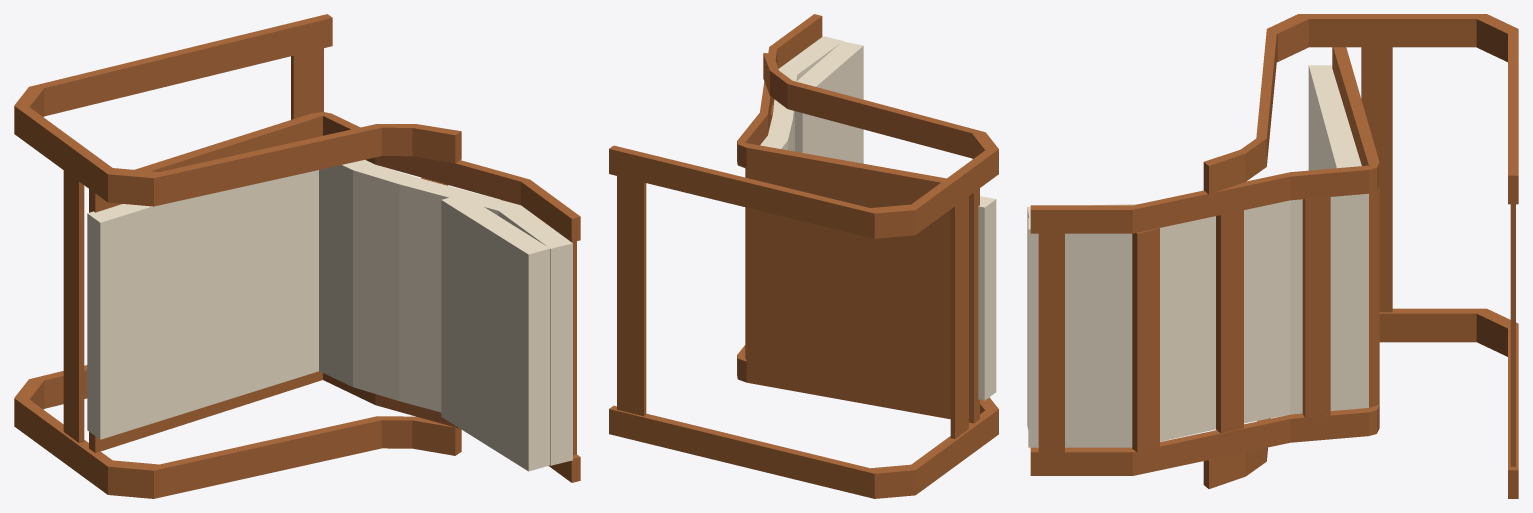
The model's file is armchair2.fbx.
3 views of the same model, side by side, from view 1: azimuth 30°, elevation 25°; view 2: azimuth 150°, elevation 25°; view 3: azimuth 270°, elevation 25° (orthographic). The views are drawn at different scales.
Visible parts, largest first — view 1: Couche:O34, Couche:O35, Couche:O32, Couche:O31, Couche:OB6, Couche:OB2, Couche:O10, Couche:O33, Couche:O30, Couche:O24, Couche:OBJ, Couche:OB4 (+14 smaller); view 2: Couche:O24, Couche:OB6, Couche:O14, Couche:OB7, Couche:OB2, Couche:O35, Couche:OBJ, Couche:O34, Couche:OB4, Couche:O12, Couche:O19, Couche:OB5 (+6 smaller); view 3: Couche:O30, Couche:O31, Couche:O33, Couche:O32, Couche:O18, Couche:O16, Couche:O17, Couche:O15, Couche:OB4, Couche:OBJ, Couche:O24, Couche:O34 (+20 smaller).
Boxes of the visible parts, x1,y1,x2,y2 form: Couche:O34: [87, 170, 318, 439]; Couche:O35: [441, 194, 549, 471]; Couche:O32: [353, 164, 420, 400]; Couche:O31: [399, 178, 520, 412]; Couche:OB6: [29, 14, 332, 116]; Couche:OB2: [154, 124, 381, 206]; Couche:O10: [154, 416, 381, 498]; Couche:O33: [319, 160, 374, 386]; Couche:O30: [498, 205, 572, 465]; Couche:O24: [89, 113, 322, 452]; Couche:OBJ: [63, 170, 84, 442]; Couche:OB4: [14, 105, 112, 202]; Couche:O24: [745, 143, 979, 423]; Couche:OB6: [609, 145, 874, 238]; Couche:O14: [609, 405, 874, 498]; Couche:OB7: [617, 176, 646, 416]; Couche:OB2: [787, 80, 984, 158]; Couche:O35: [795, 41, 863, 163]; Couche:OBJ: [950, 196, 968, 438]; Couche:O34: [978, 196, 996, 400]; Couche:OB4: [911, 149, 998, 234]; Couche:O12: [911, 409, 998, 494]; Couche:O19: [769, 14, 822, 68]; Couche:OB5: [870, 204, 915, 238]; Couche:O30: [1028, 218, 1132, 447]; Couche:O31: [1160, 216, 1215, 441]; Couche:O33: [1290, 193, 1368, 414]; Couche:O32: [1244, 200, 1290, 423]; Couche:O18: [1302, 197, 1330, 417]; Couche:O16: [1132, 228, 1159, 452]; Couche:O17: [1216, 210, 1243, 433]; Couche:O15: [1038, 233, 1064, 452]; Couche:OB4: [1299, 14, 1486, 47]; Couche:OBJ: [1361, 47, 1392, 312]; Couche:O24: [1332, 47, 1379, 407]; Couche:O34: [1308, 65, 1361, 170].
Bounding box in the file's own units: 1.52 × 1.36 × 1.87.
